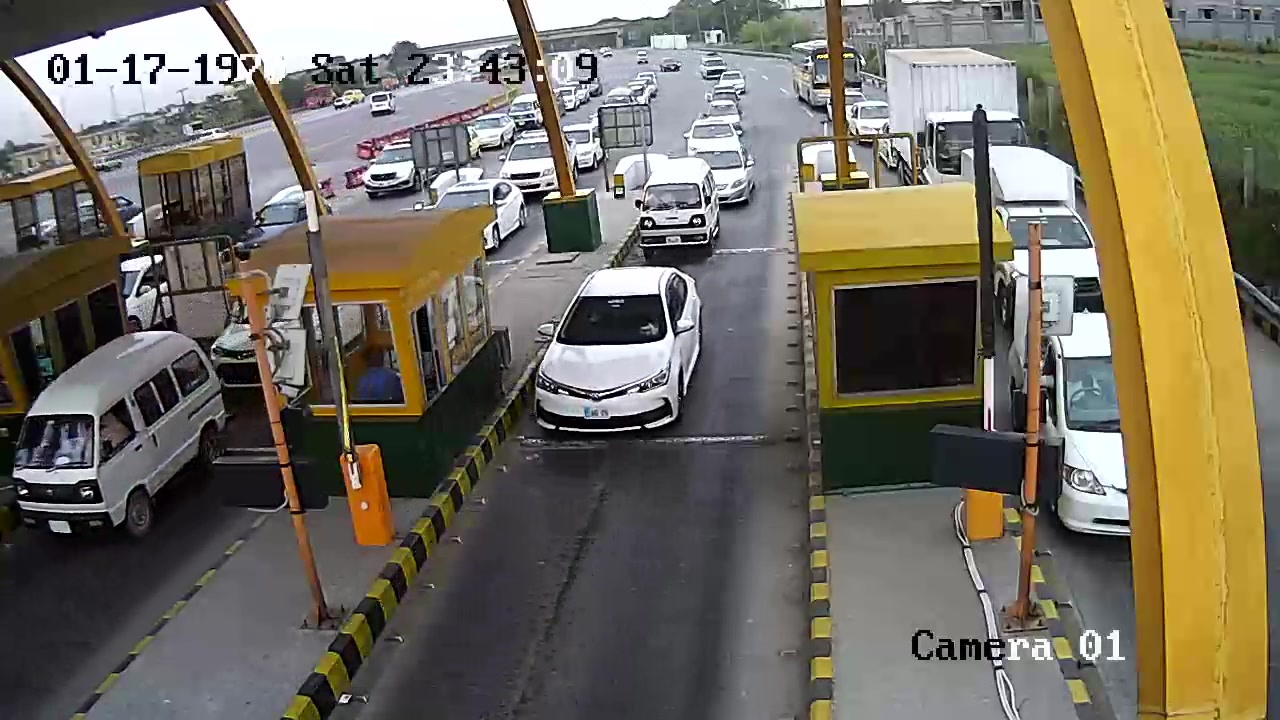F1: (524, 262, 728, 455)
